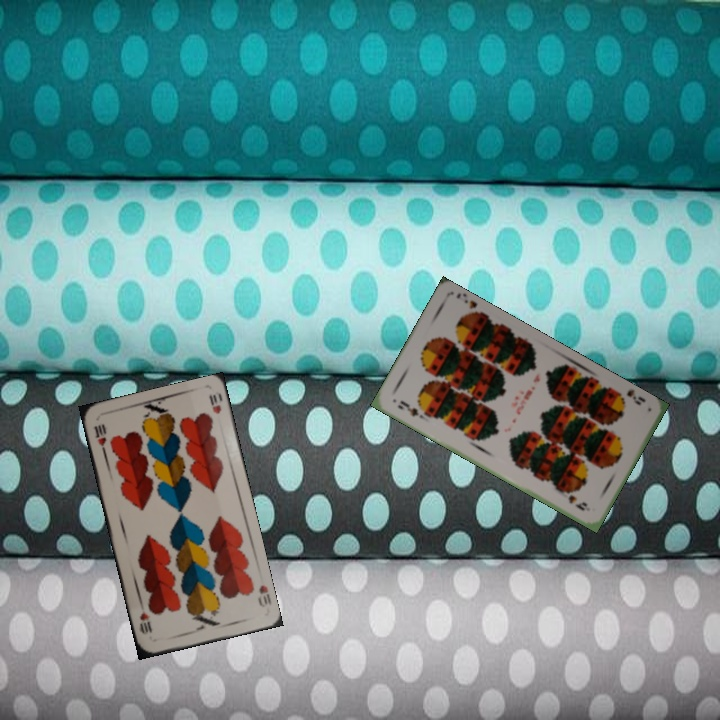H10: (90, 420, 109, 457), (254, 581, 273, 610)
S9: (612, 386, 648, 408), (394, 396, 421, 419)
